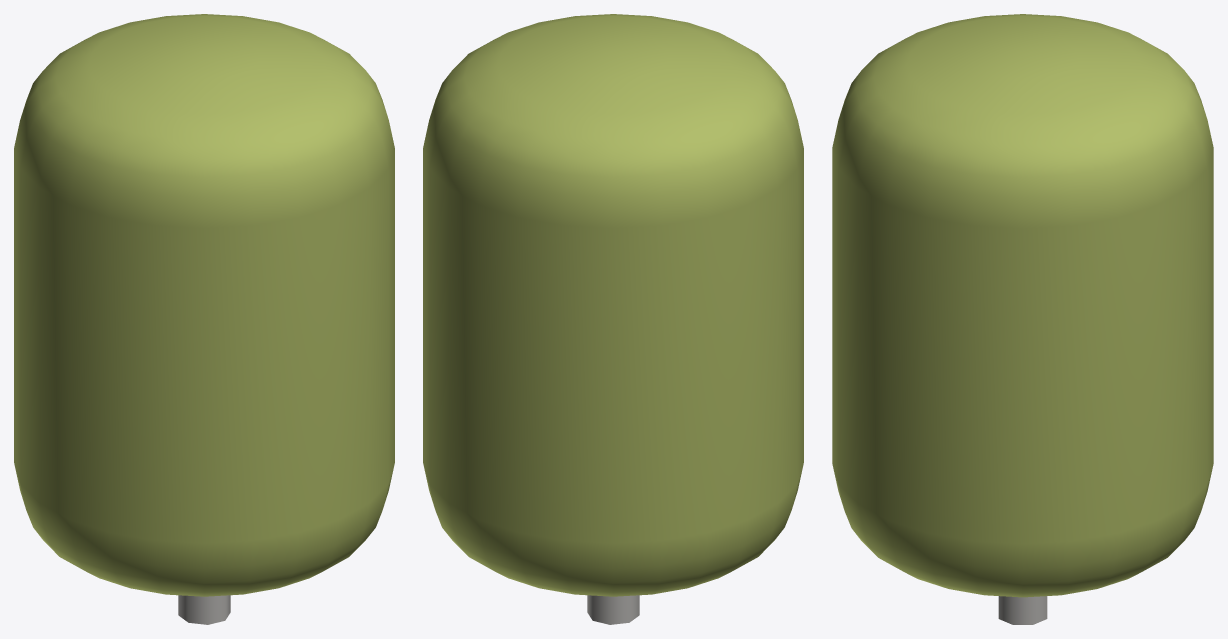
Rendered from ChamaedoreaElegans.glb.
3 renders of one model, left to right at view 1: azimuth 30°, elevation 25°; view 2: azimuth 150°, elevation 25°; view 3: azimuth 270°, elevation 25°, orthographic.
Parts seen in each view (by area): view 1: Parlour_Palm__Schematic_LOD3; view 2: Parlour_Palm__Schematic_LOD3; view 3: Parlour_Palm__Schematic_LOD3.
Part boxes in pixels (left/top/right/bottom): Parlour_Palm__Schematic_LOD3: left=14, top=14, right=394, bottom=624; Parlour_Palm__Schematic_LOD3: left=423, top=14, right=803, bottom=624; Parlour_Palm__Schematic_LOD3: left=832, top=14, right=1213, bottom=624.
Size of the model in its own units: 1.74 by 2.83 by 1.74.
